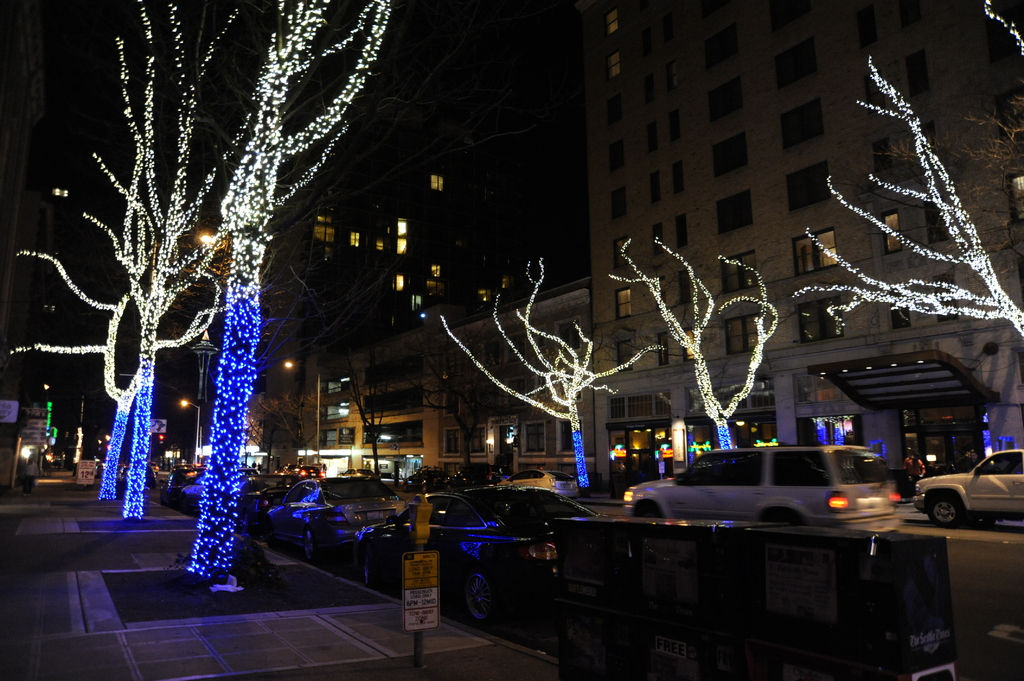Car: (117, 456, 612, 627), (621, 444, 901, 533), (910, 447, 1023, 528)
